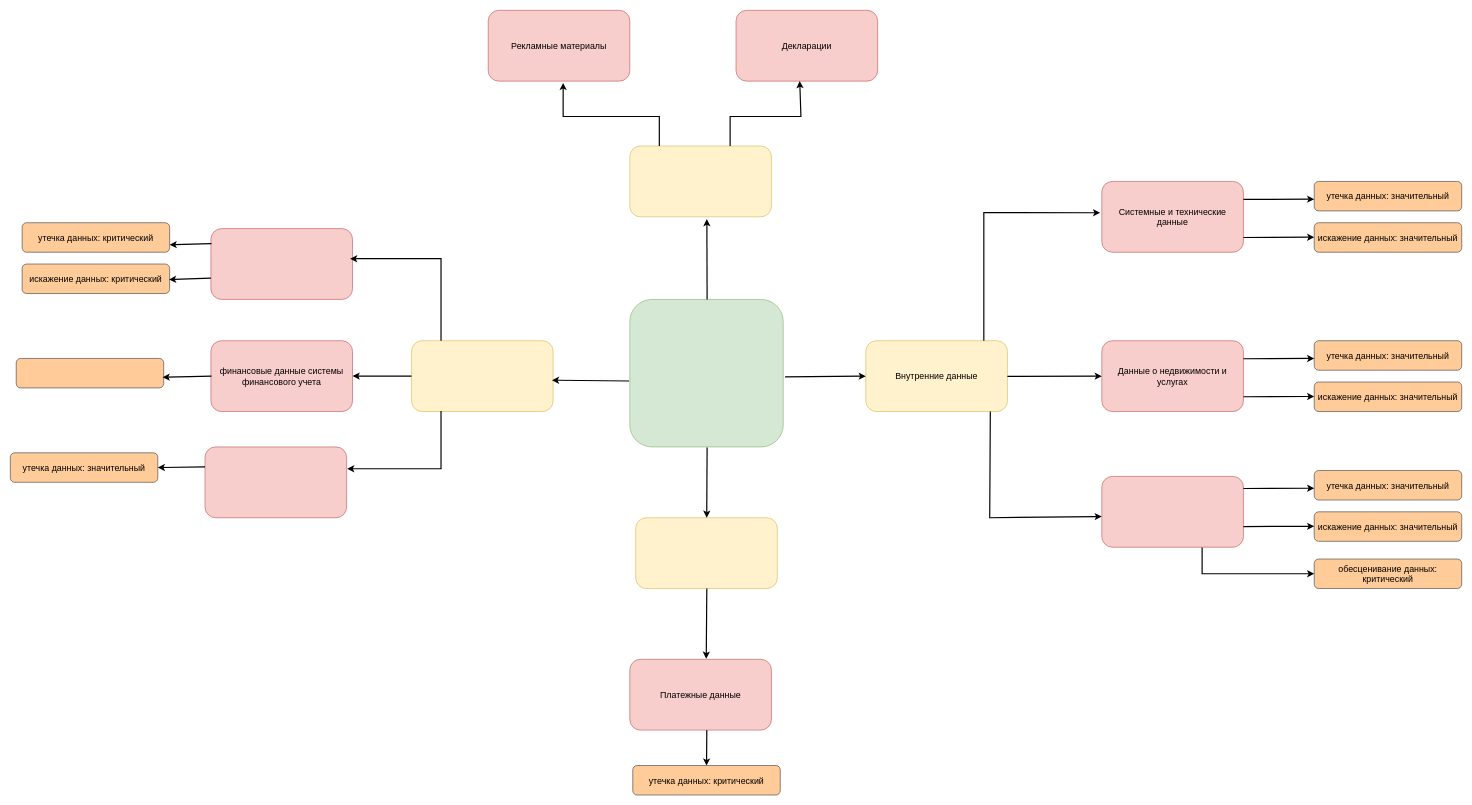
This 1472x805 diagram has some shape labels left out. The box of each missing label's shape, as (x1, y1, x2, y2) in pixels:
Безопасность Данных: (629, 299, 783, 447)
Данные в домене Дата: (1101, 476, 1243, 547)
коммерческая тайна по сделкам: (204, 446, 347, 518)
Конфиденциальные данные: (411, 340, 553, 412)
Персональные данные клиентов: (210, 228, 353, 299)
Публичные данные: (629, 145, 771, 217)
Секретные данные: (635, 517, 777, 589)
утечка данных: незначительный: (16, 358, 164, 388)
